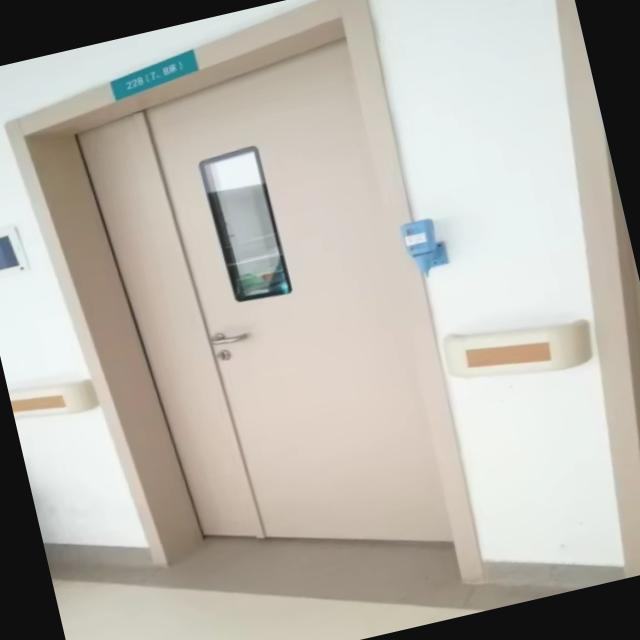door: (2, 0, 485, 588), (555, 0, 640, 577)
